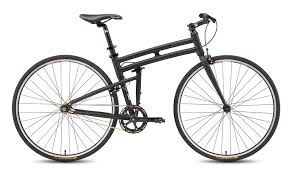bicycle: (7, 8, 281, 168)
